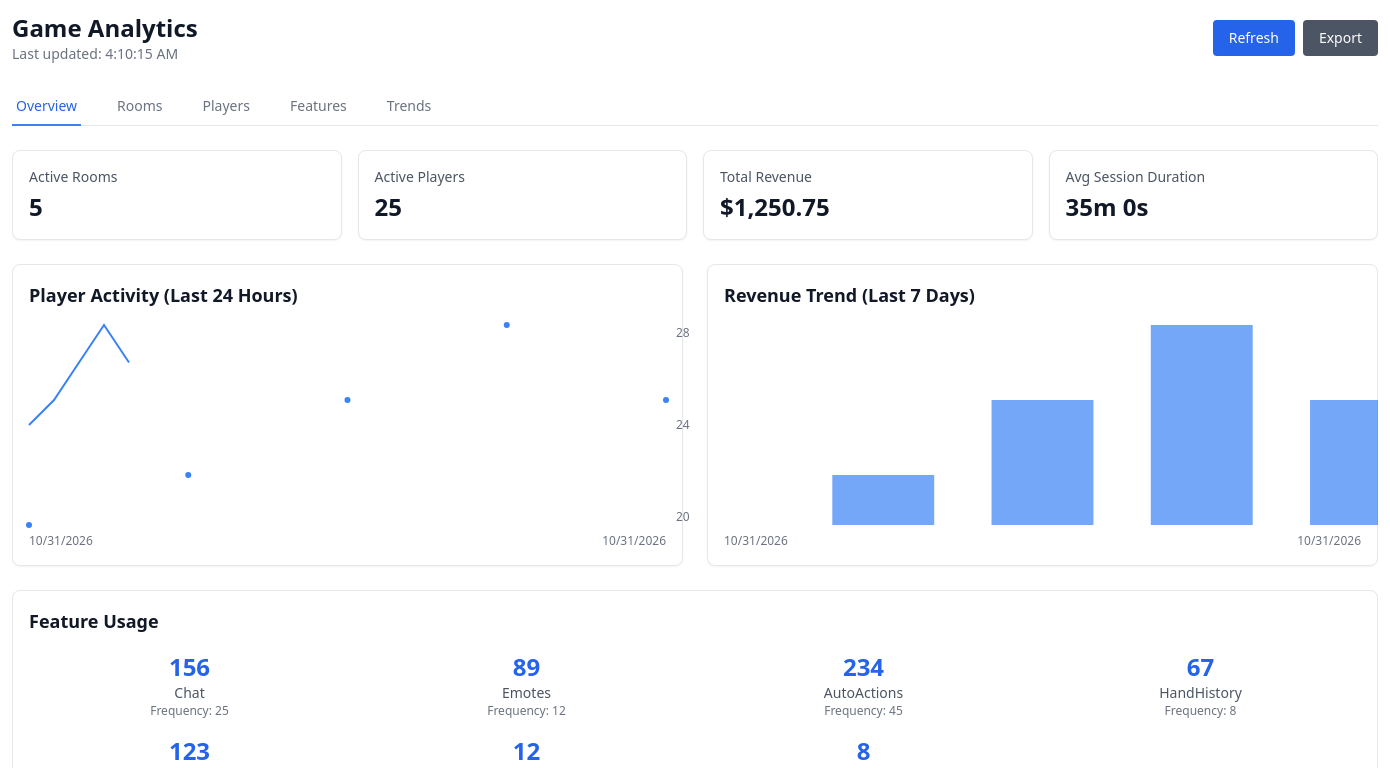
Test: Custom Hooks › useRoomStatistics › should return room statistics data
Click the button "Rooms". click: (140, 107)
box: [113,88,167,126]
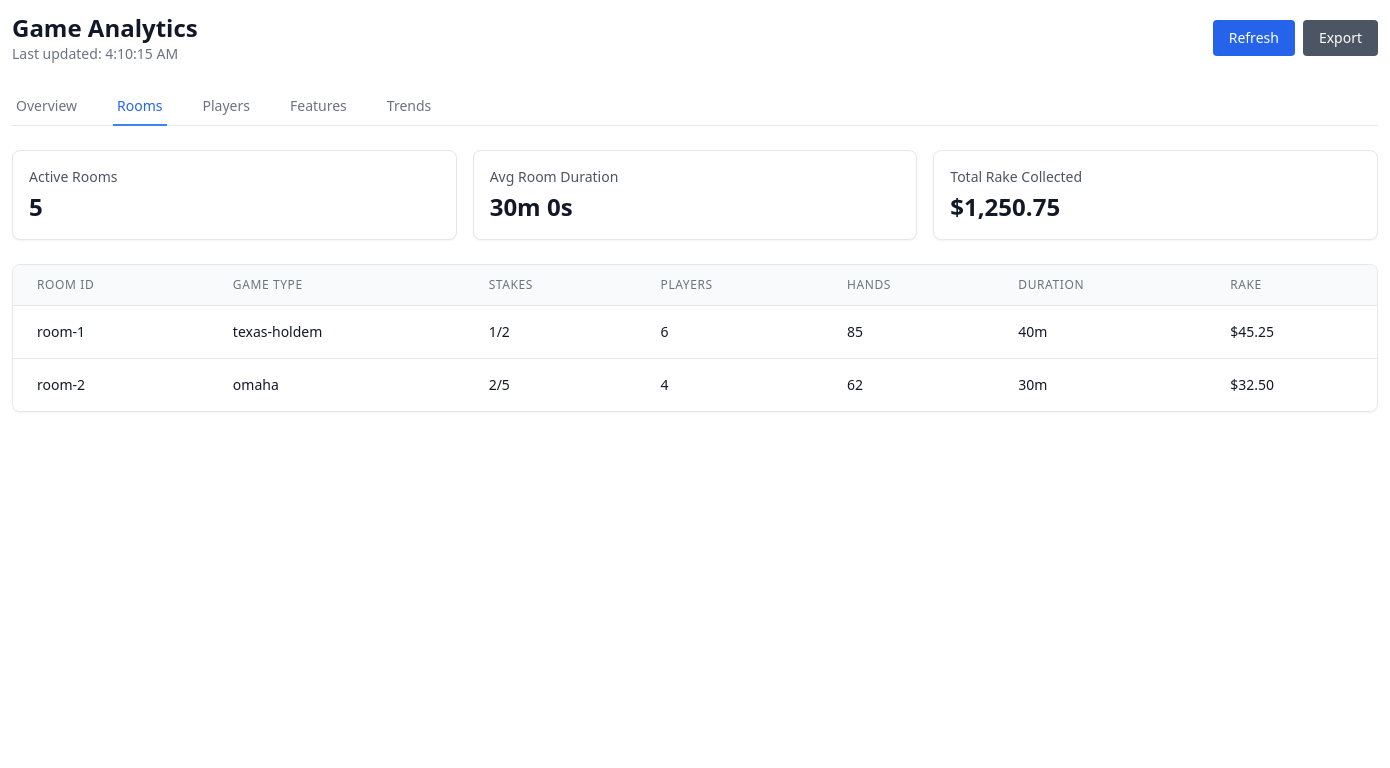
Check: the text "room-1" is shown, box [13,306,209,358]
Check: the text "texas-holdem" is shown, box [209,306,465,358]
